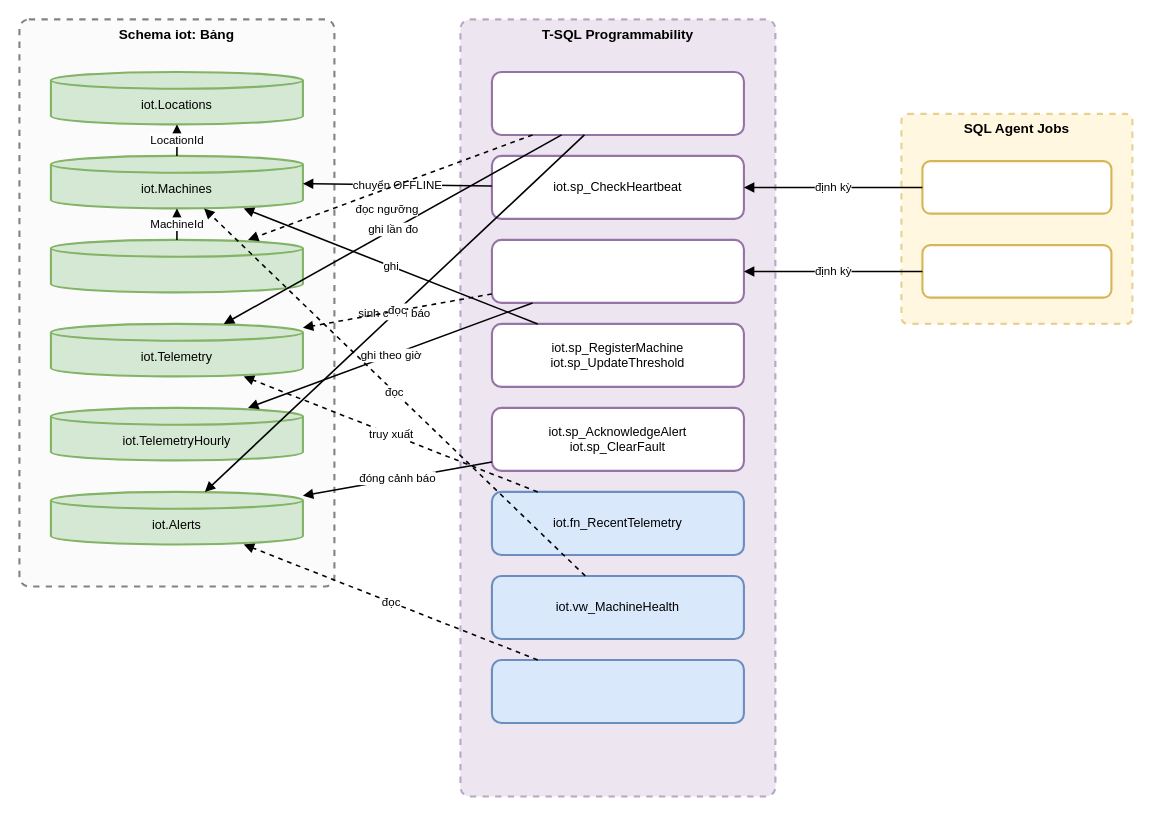
Some shapes in this 1151 by 815 pixel diagram are drawn without their labels. Here are the shapes that lost their labels. From the top down, the centre of each, then its label:
point 617,102: iot.sp_IngestTelemetry
point 1016,187: Job mỗi phút
point 176,265: iot.MachineThresholds
point 617,270: iot.sp_AggregateHourly
point 1016,271: Job mỗi giờ
point 617,690: iot.vw_OpenAlerts
